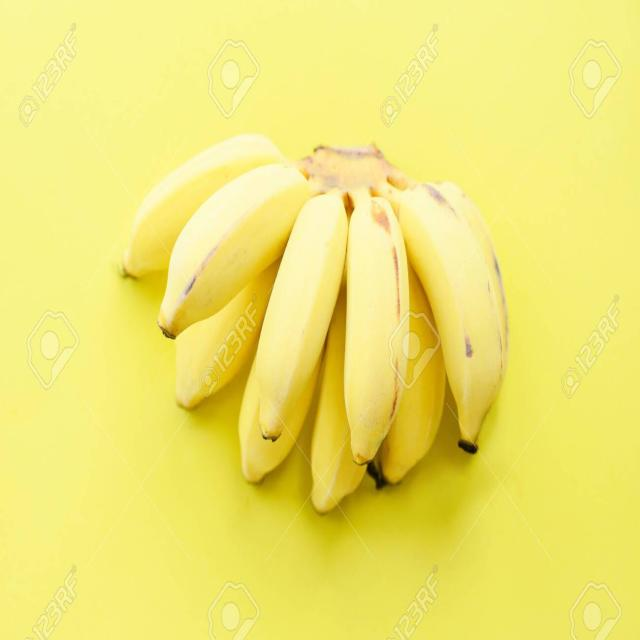Banana: (298, 146, 509, 451), (159, 163, 310, 336), (124, 133, 286, 277), (256, 193, 349, 440), (344, 197, 409, 464), (175, 261, 279, 408), (311, 281, 366, 513), (239, 352, 322, 483), (376, 347, 446, 484), (408, 262, 435, 325)
